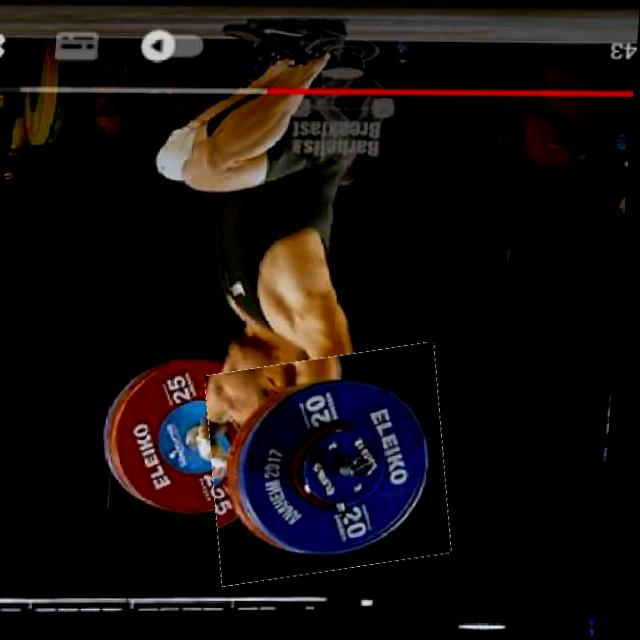barbell: (208, 349, 465, 580)
